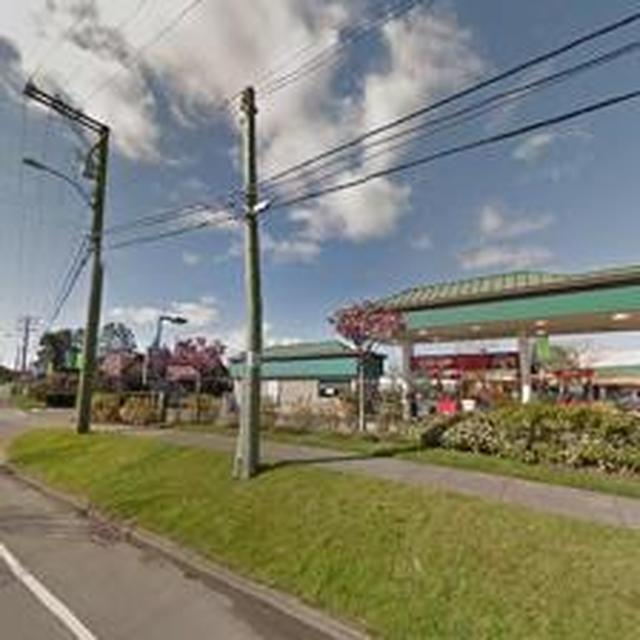building: (377, 266, 640, 431), (230, 336, 384, 427)
